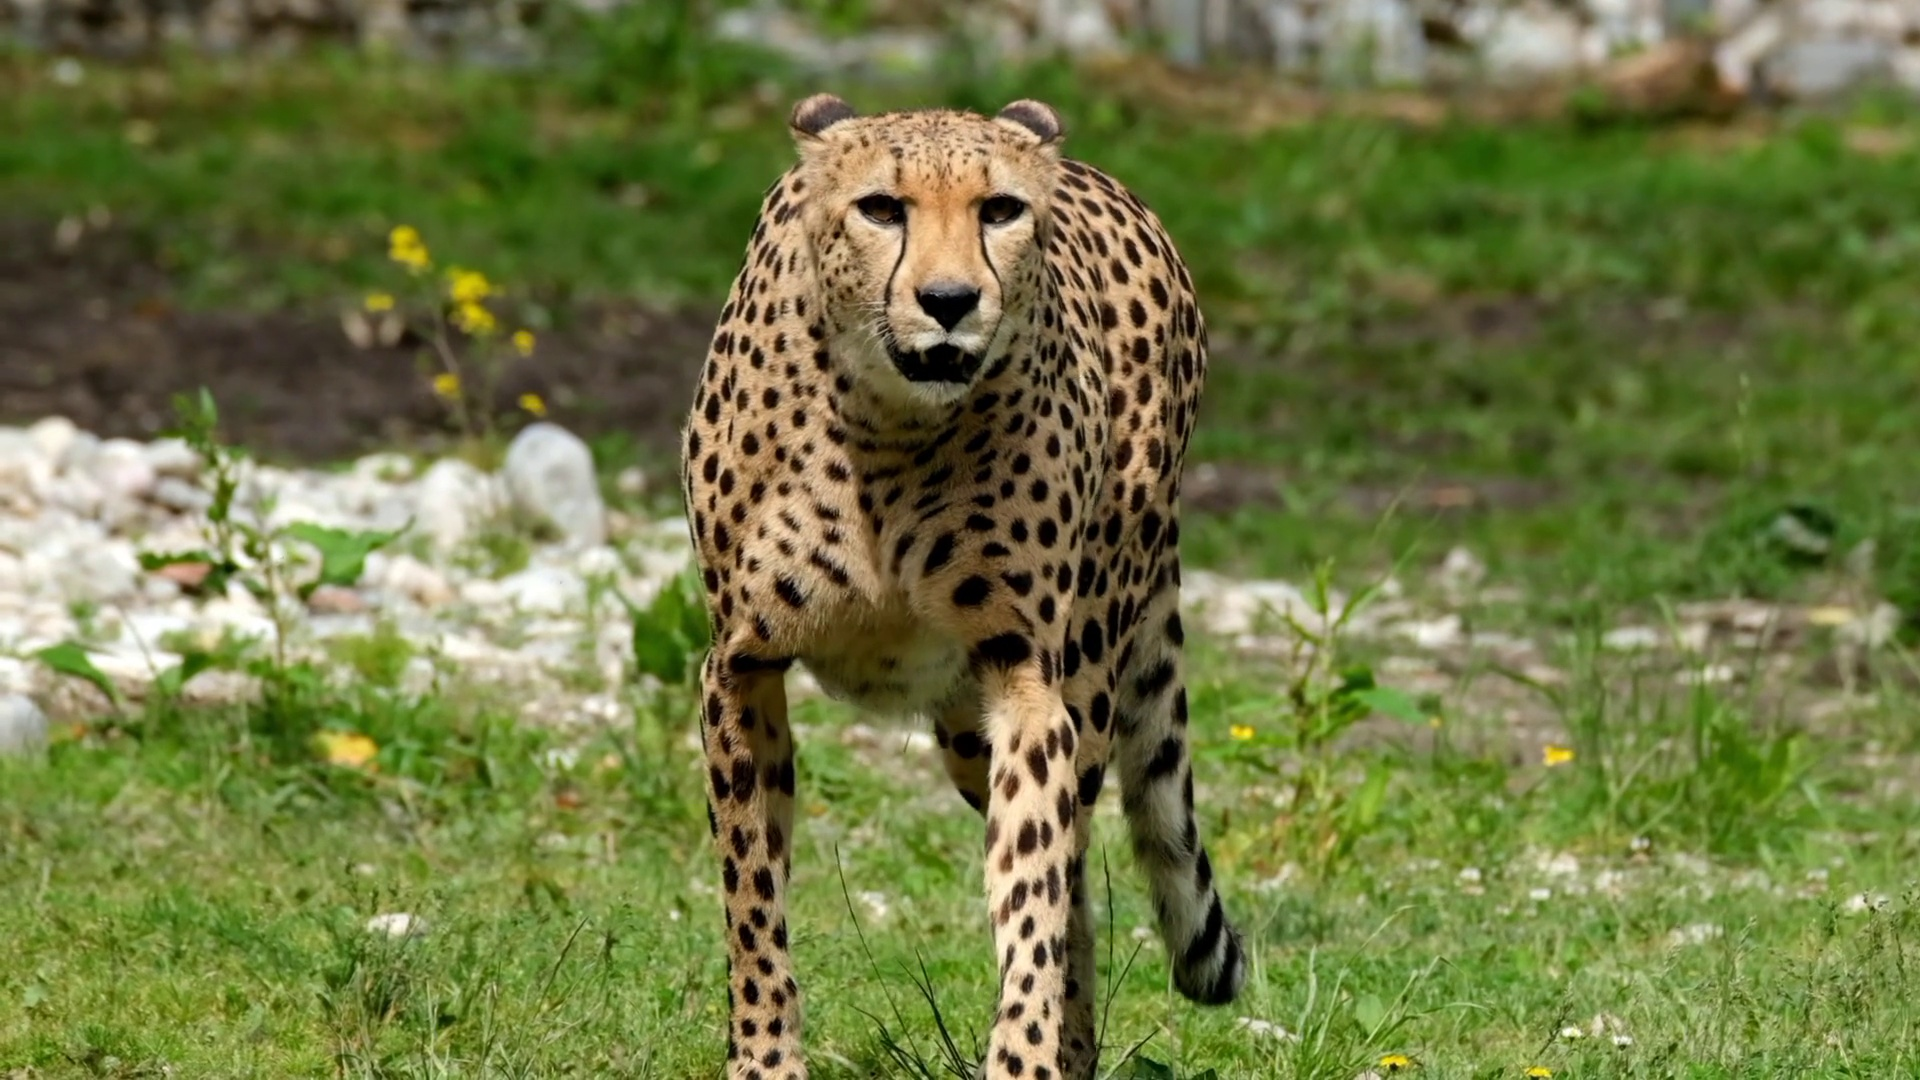Cheetah: (680, 88, 1254, 1080)
